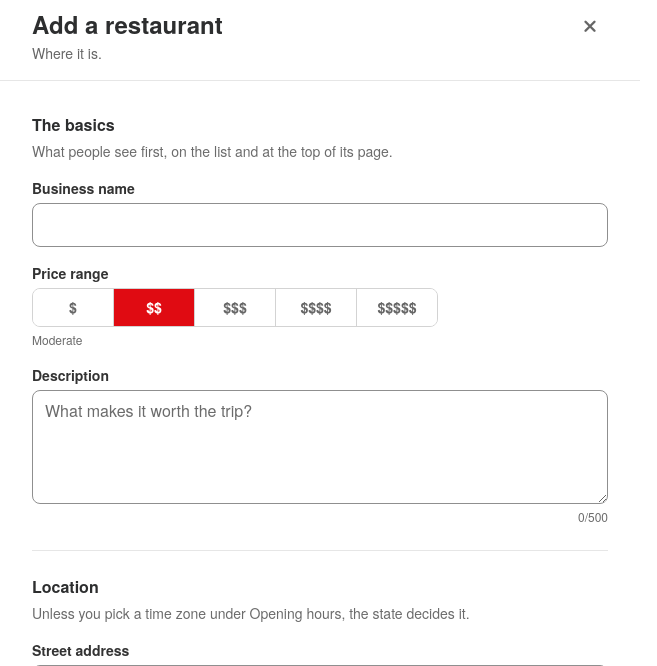
Test case: price is one choice of five, said in words as well as dollar signs
This screenshot has width=657, height=666.
expect the element "Price range" is shown: met, box [32,263,438,348]
expect the radio button named "$$, Moderate" is checked: met, box [113,289,194,326]
Click the radio button named "$$$$, High-end" at (316, 308), box [275,289,356,326]
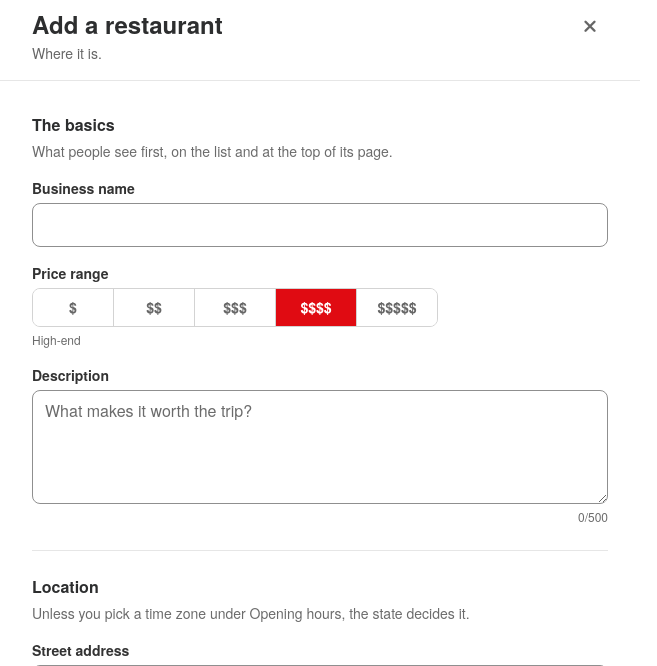
expect the radio button named "$$$$, High-end" is checked: met, box [275,289,356,326]
expect the text "High-end" is shown: met, box [32,331,81,348]
